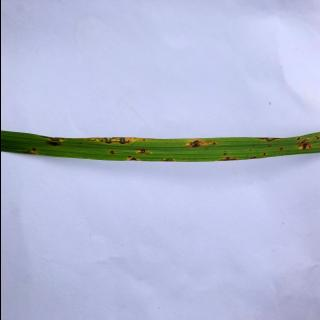Blast: (84, 136, 136, 146), (184, 138, 218, 150), (40, 136, 66, 148), (294, 137, 312, 151), (134, 145, 152, 156), (254, 137, 282, 143), (22, 146, 38, 155), (218, 156, 236, 162), (159, 156, 175, 162), (122, 155, 138, 161), (260, 151, 268, 157), (278, 145, 284, 152), (314, 134, 318, 142), (140, 138, 146, 142)
